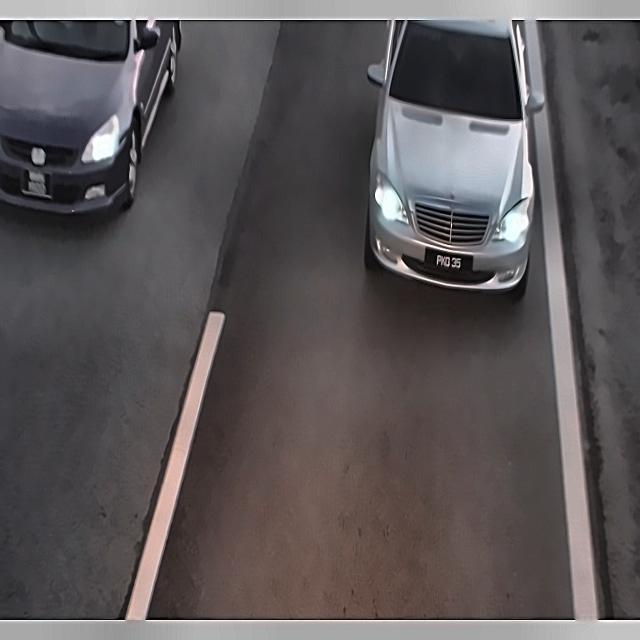car: (424, 238, 474, 278), (18, 162, 60, 208)
